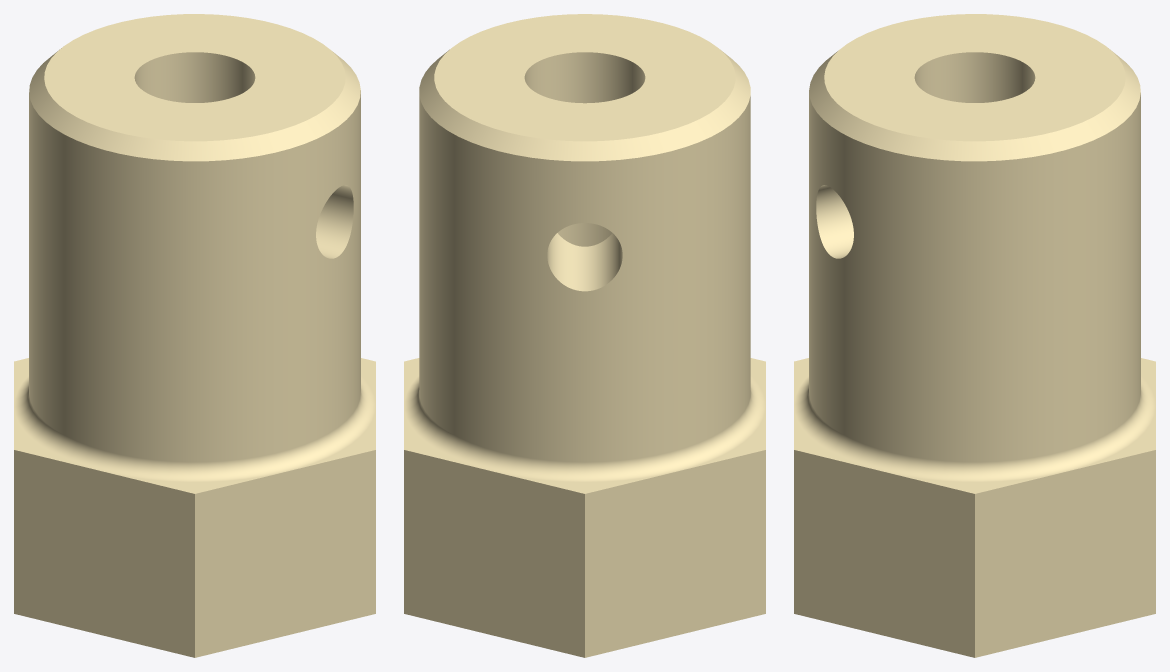
File: hexcoupler_r.gltf
3 renders of one model, left to right at view 1: azimuth 30°, elevation 25°; view 2: azimuth 150°, elevation 25°; view 3: azimuth 270°, elevation 25°, orthographic.
Visible parts, largest first — view 1: HexCoupler_r; view 2: HexCoupler_r; view 3: HexCoupler_r.
Boxes of the visible parts, x1=… form: HexCoupler_r: x1=14, y1=14, x2=375, y2=657; HexCoupler_r: x1=404, y1=14, x2=765, y2=657; HexCoupler_r: x1=794, y1=14, x2=1155, y2=657.
Size of the model in its own units: 0.0139 by 0.018 by 0.012.
